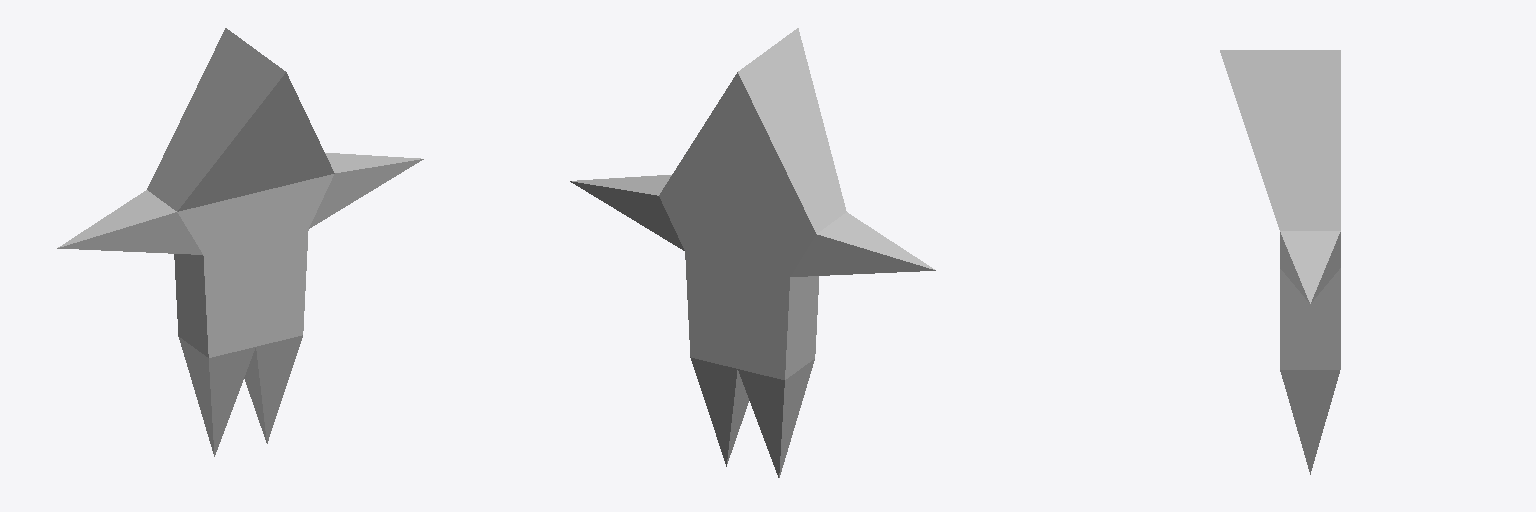
File: ludek.obj
The picture shows the model from 3 angles: view 1: azimuth 30°, elevation 25°; view 2: azimuth 150°, elevation 25°; view 3: azimuth 270°, elevation 25°; orthographic projection.
Size of the model in its own units: 2.1 by 2.25 by 0.6.